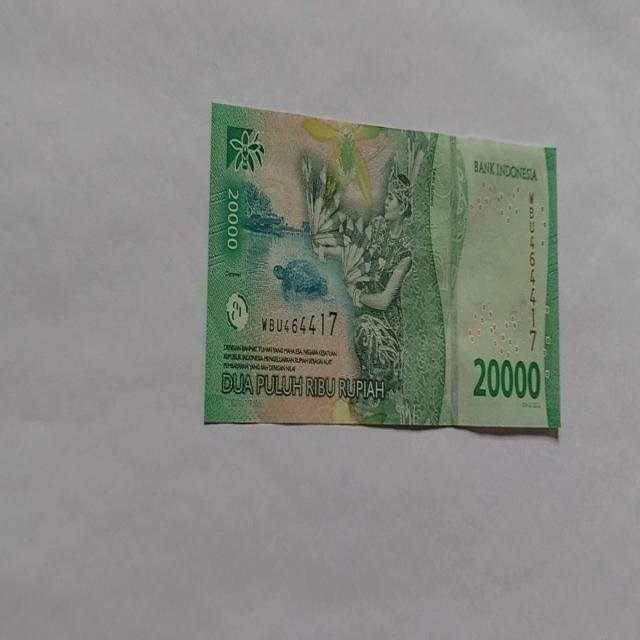dua puluh ribu rupiah: (204, 101, 560, 435)
